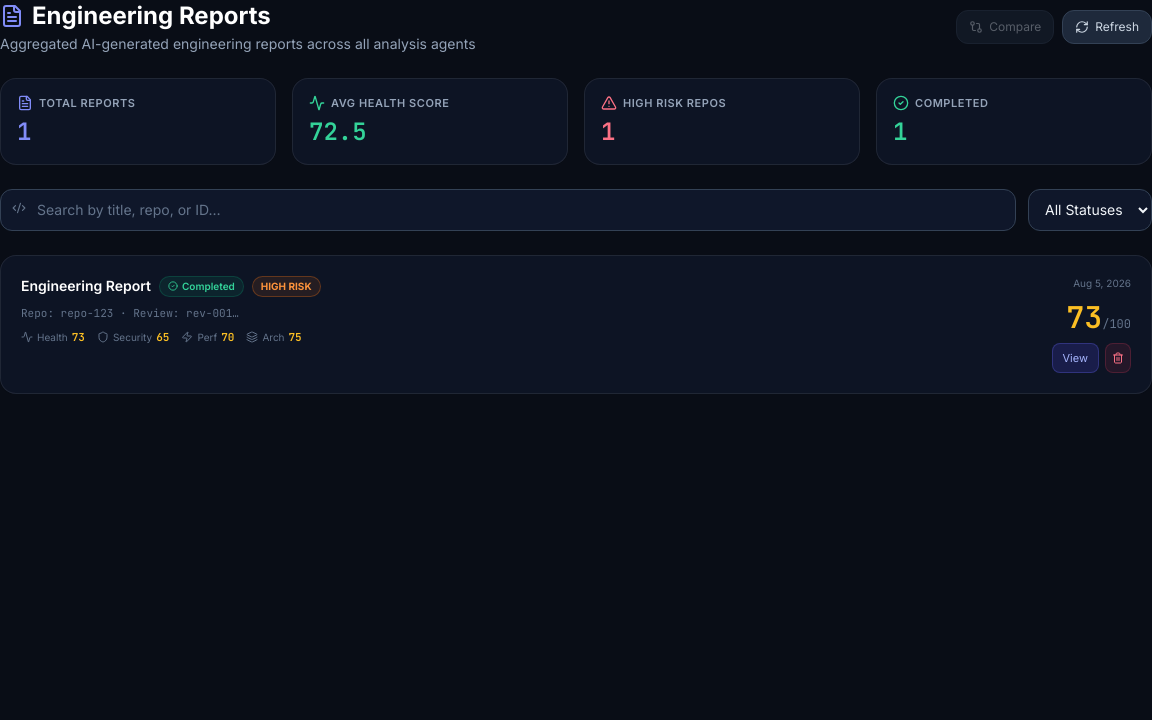
Test: ReportsPage › clicking View opens detail panel
Check: the heading "Engineering Report" is shown, box 21,276 -> 151,296
Click the button "View".
click(1075, 358)  # box 1052,342 -> 1099,373
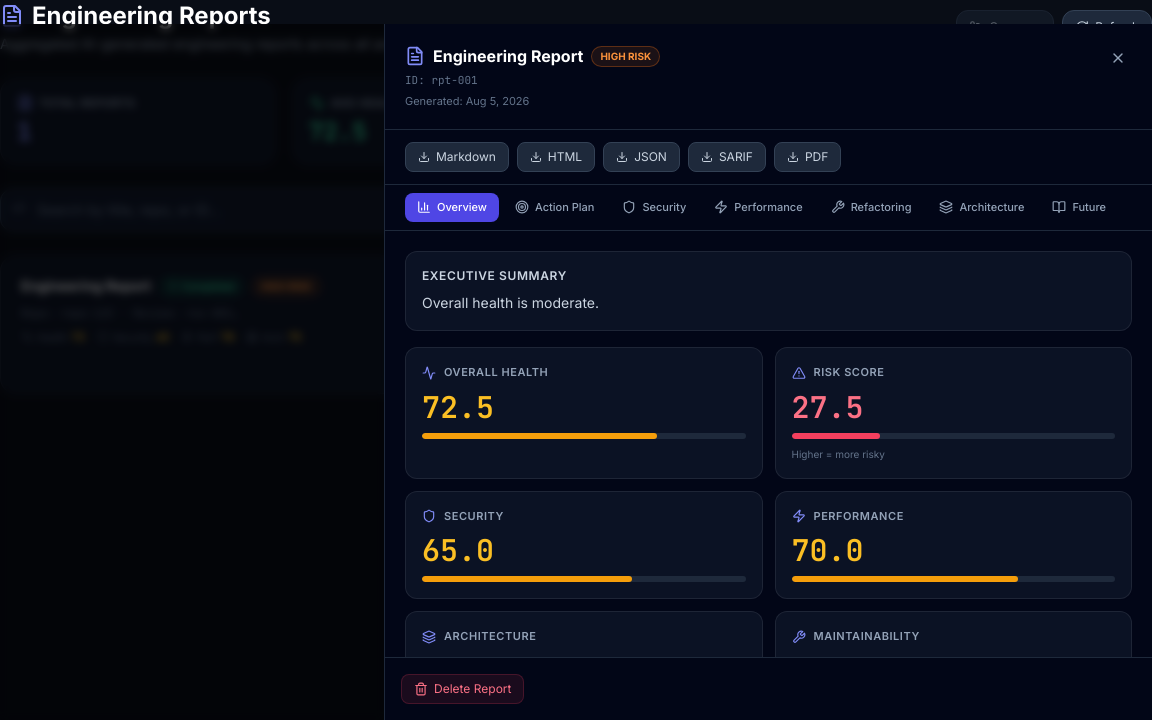
Check: the text "Overall health is moderate." is shown, box 422,294 -> 599,310
